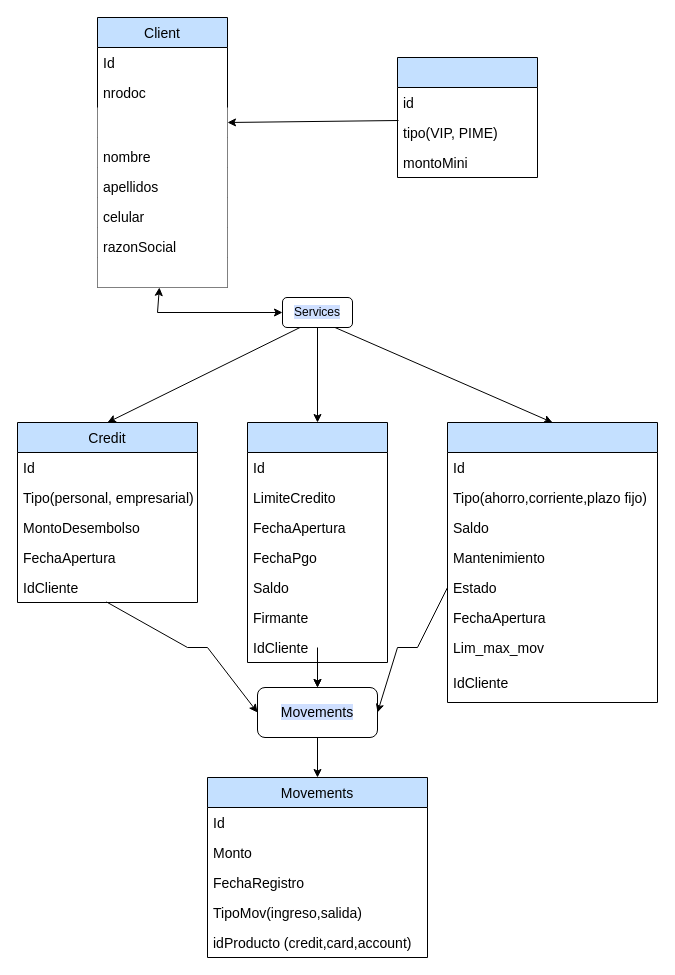
Image size: 675x975. Some labels were removed from this diagram. The box of each missing label's shape, as (x1, y1, x2, y2) in pixels:
Bank account: (446, 422, 658, 702)
Credit card: (246, 422, 388, 662)
IdPermiso: (97, 257, 227, 287)
Profiles: (396, 56, 538, 178)
tipodoc(dni, ruc): (97, 107, 227, 137)
